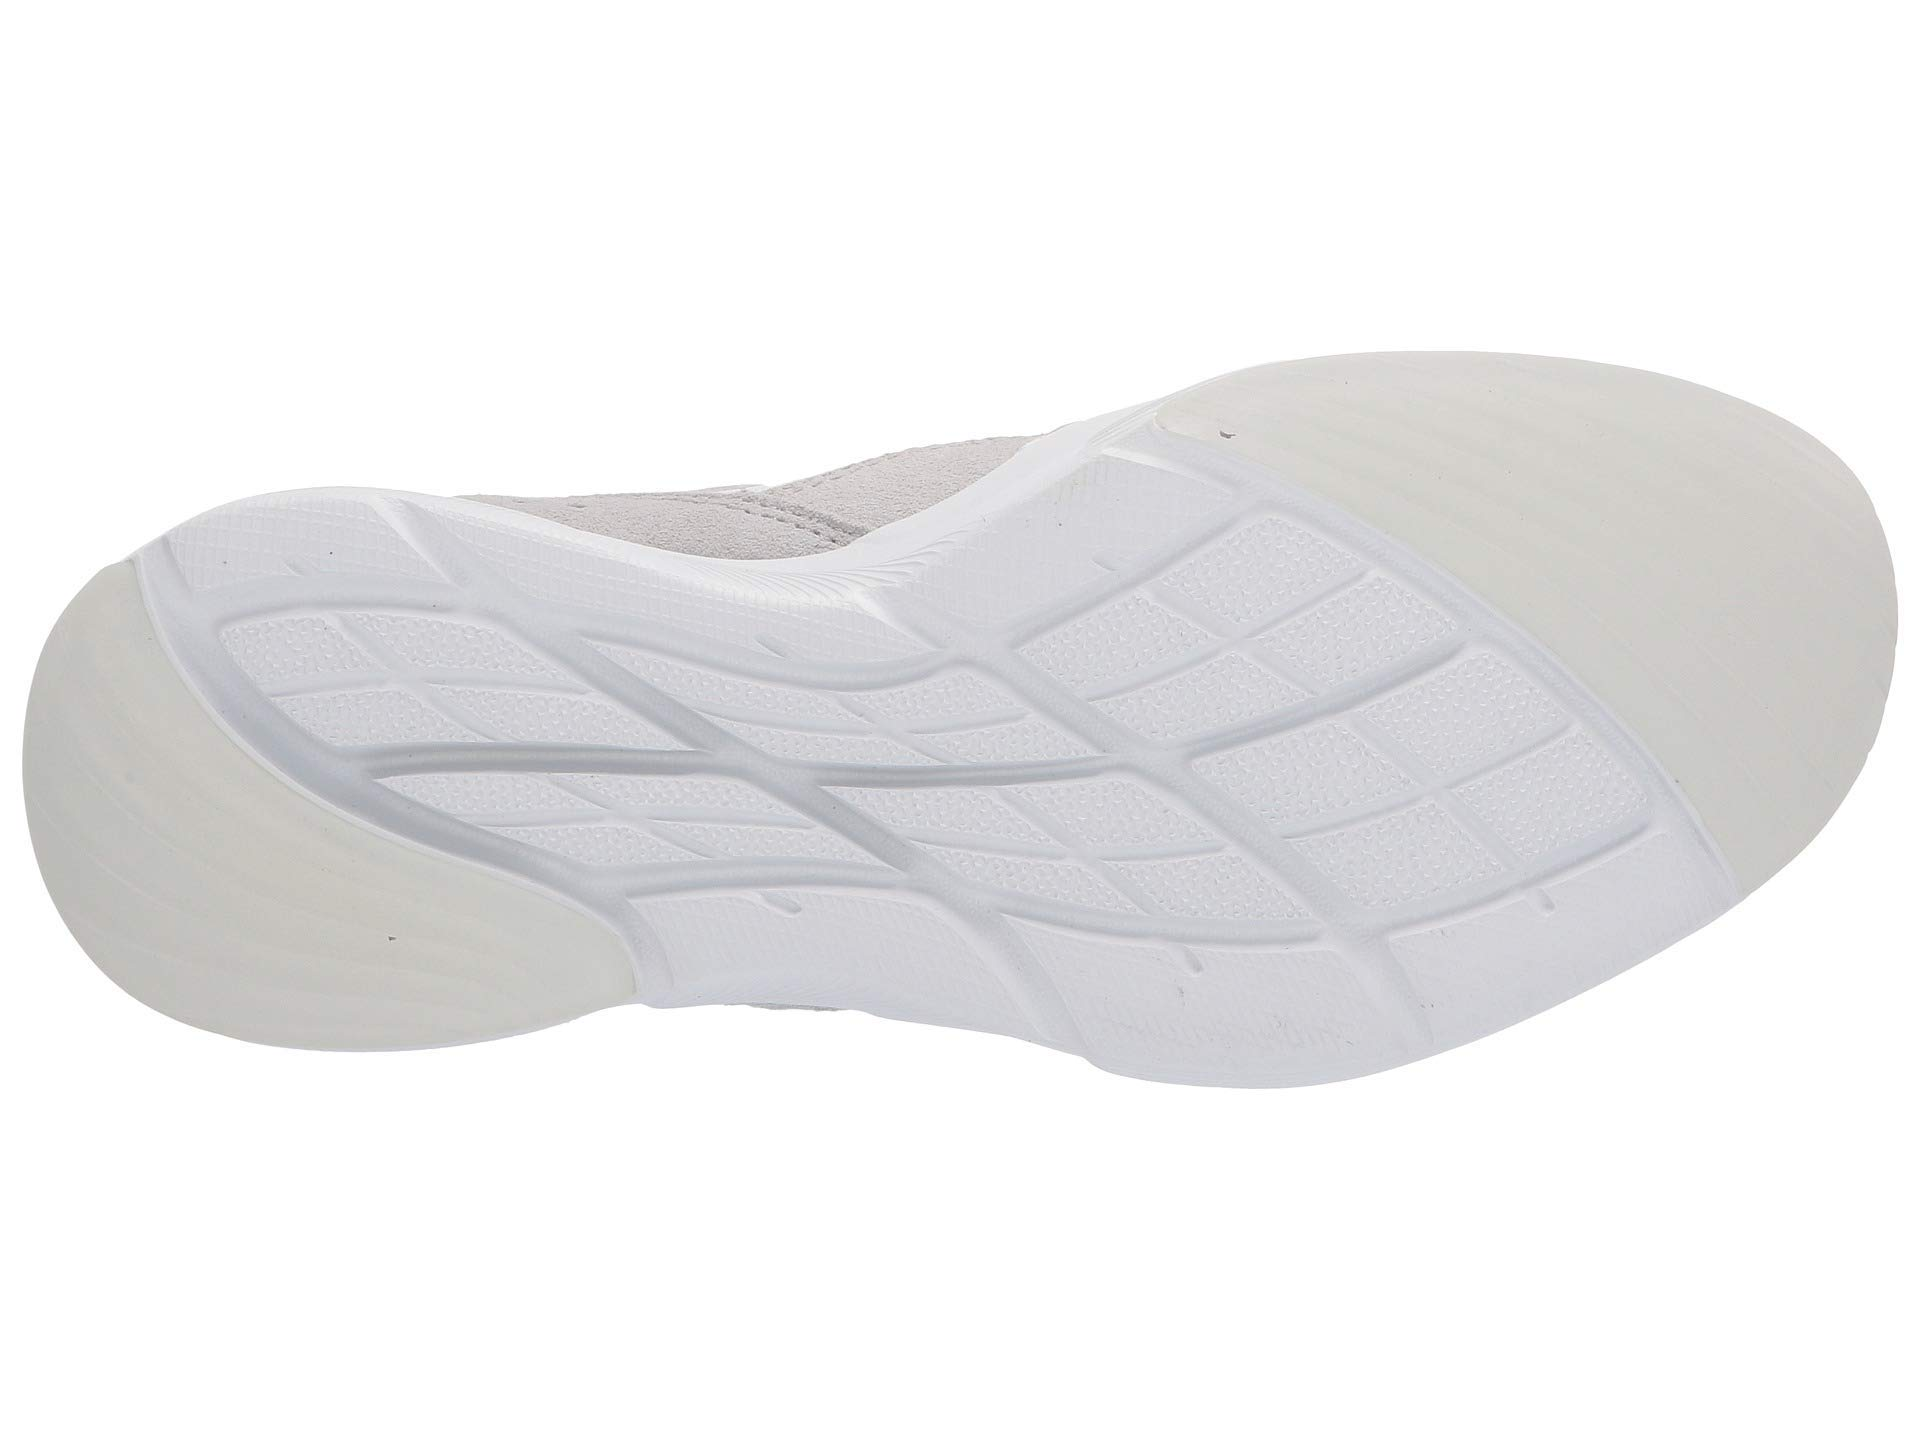line: (797, 709, 1356, 1115), (150, 554, 706, 902)
quad: (797, 709, 1356, 1115), (150, 554, 706, 902)
